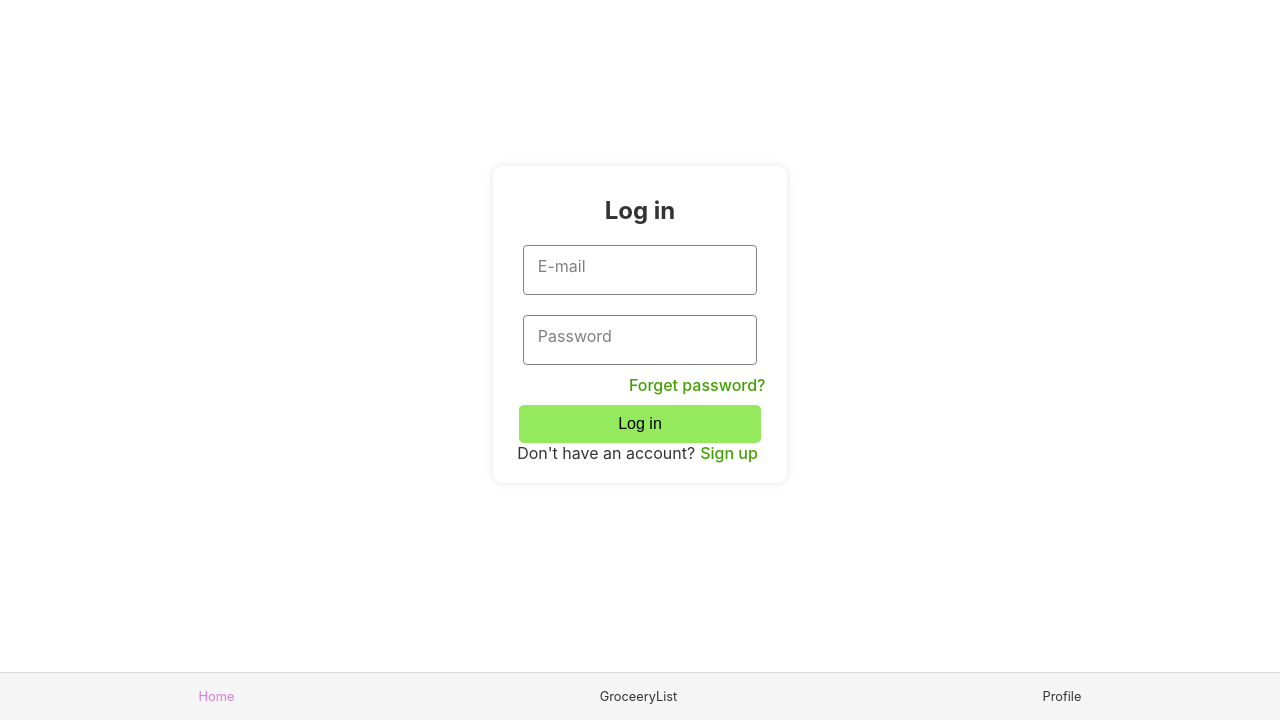
it: display error when password length is less than 8
Type "test@gmail.com" into the field labelled "E-mail" at (640, 270), box [523,244,757,294]
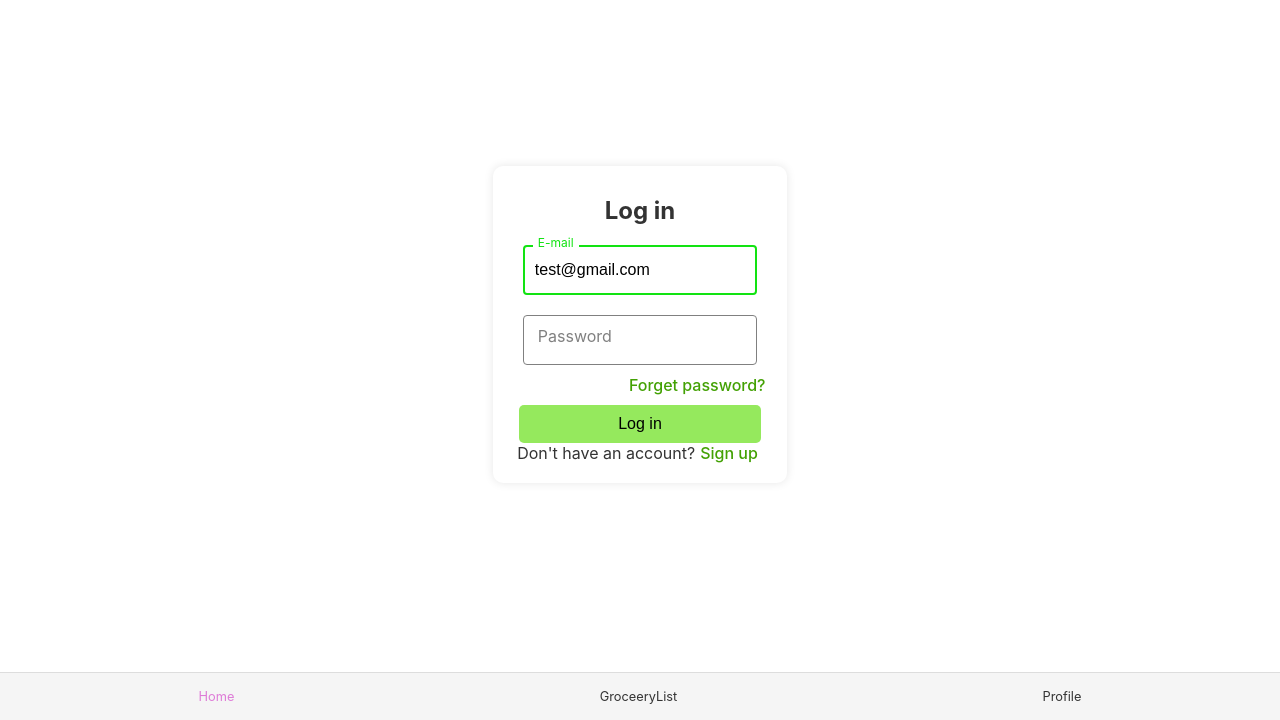
Type "pass1" into the password field labelled "Password" at (640, 340), box [523,314,757,364]
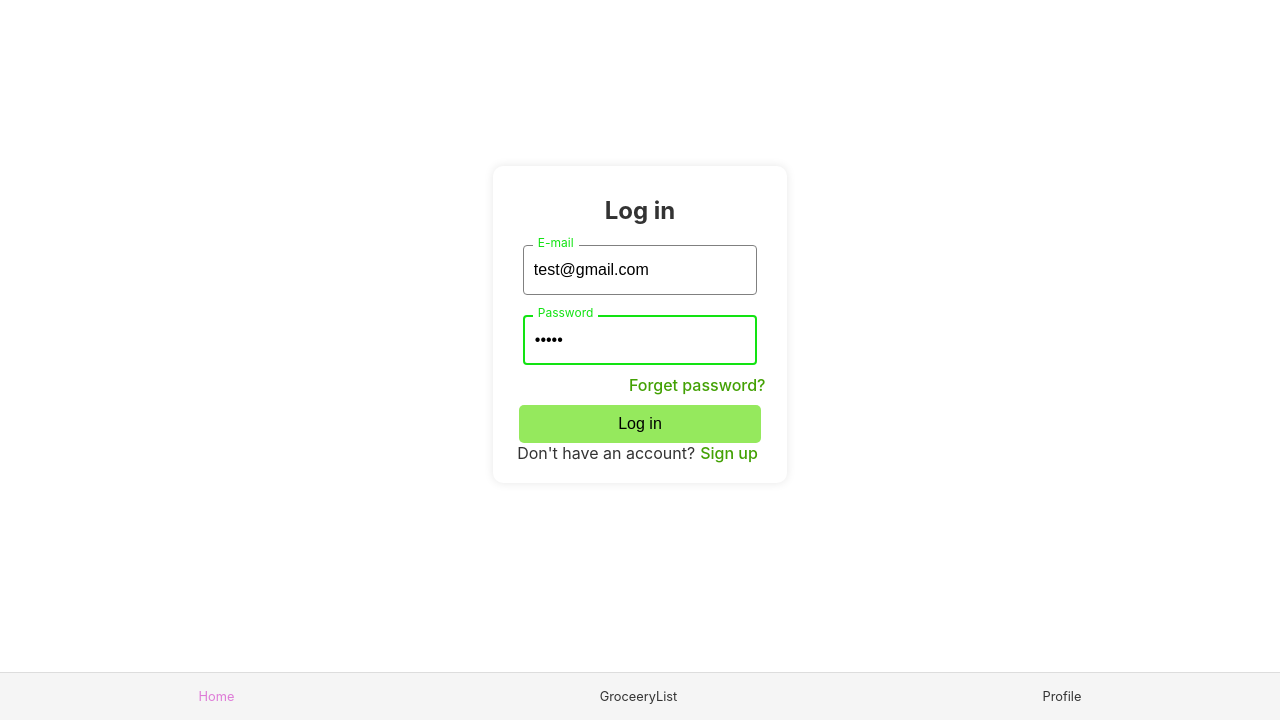
Click the button "Log in" at (640, 424), box [519,404,761,442]
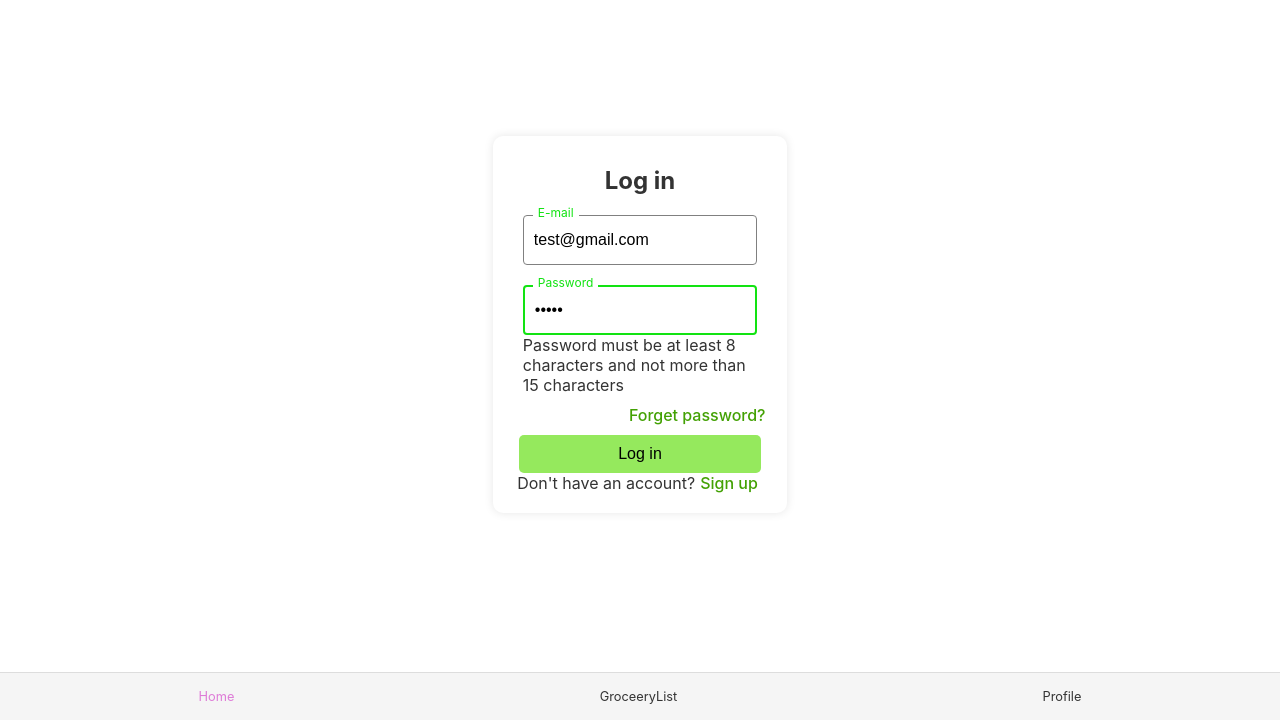
Result: the text "Password must be at least 8 characters and not more than 15 characters" is shown at [523,334,757,394]
